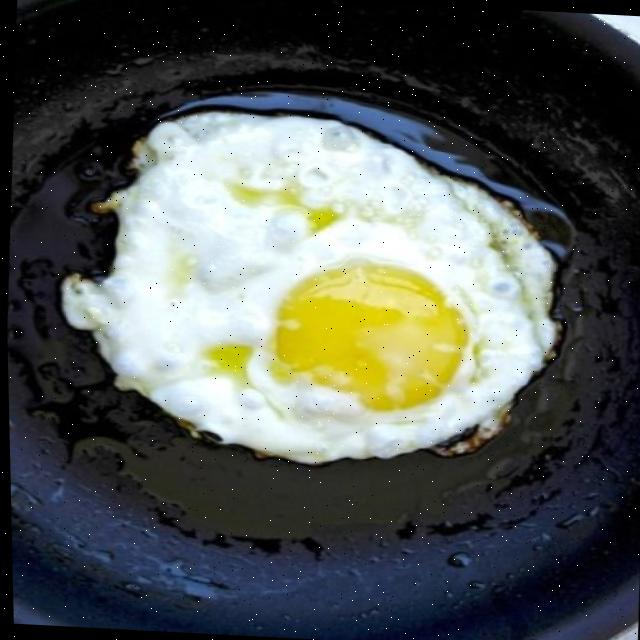Egg: (60, 111, 557, 464)
